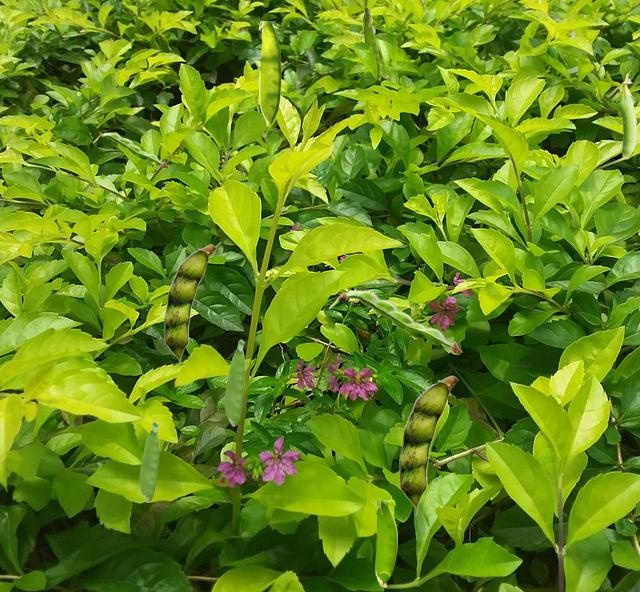pea: (329, 289, 461, 351), (399, 375, 457, 515), (164, 244, 215, 366), (93, 132, 167, 166), (259, 21, 280, 125), (375, 500, 396, 586), (224, 339, 244, 425), (139, 421, 158, 501), (362, 6, 380, 80), (618, 82, 635, 156)
